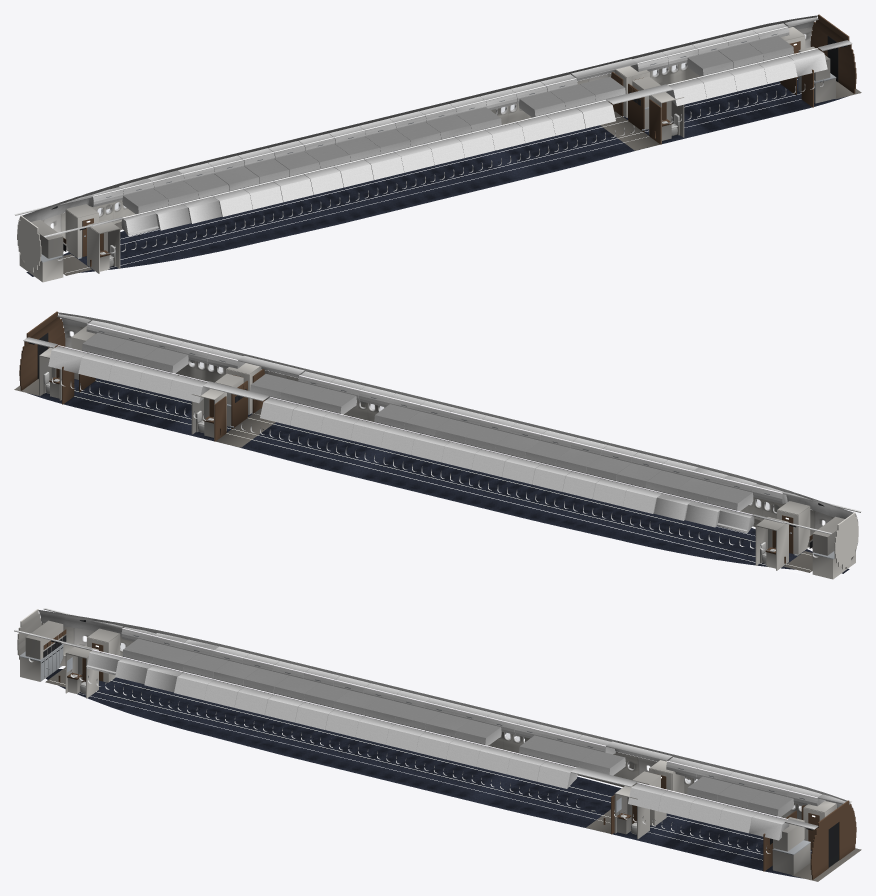
Rendered from b767-300er-cabin.glb.
The picture shows the model from 3 angles, top to bottom: view 1: azimuth 30°, elevation 25°; view 2: azimuth 150°, elevation 25°; view 3: azimuth 330°, elevation 25°; orthographic projection.
Parts seen in each view (by area): view 1: Cabin_Overhead, Cabin_Floor, Cabin_Monuments, Cabin_Lining, Cabin_Reveals; view 2: Cabin_Overhead, Cabin_Floor, Cabin_Monuments, Cabin_Lining, Cabin_Reveals; view 3: Cabin_Overhead, Cabin_Floor, Cabin_Monuments, Cabin_Lining, Cabin_Reveals.
Part boxes in pixels (x1,y1,x2,y2): Cabin_Overhead: (14, 15, 852, 237); Cabin_Floor: (26, 78, 861, 277); Cabin_Monuments: (17, 14, 856, 282); Cabin_Lining: (18, 15, 817, 271); Cabin_Reveals: (57, 62, 823, 260); Cabin_Overhead: (23, 314, 861, 534); Cabin_Floor: (14, 378, 849, 574); Cabin_Monuments: (19, 311, 858, 579); Cabin_Lining: (58, 312, 857, 568); Cabin_Reveals: (52, 359, 818, 557); Cabin_Overhead: (14, 608, 851, 840); Cabin_Floor: (44, 667, 861, 881); Cabin_Monuments: (17, 609, 856, 879); Cabin_Lining: (38, 610, 855, 821); Cabin_Reveals: (28, 643, 802, 853).
Size of the model in its own units: 43.43 by 2.7 by 4.99.
21 materials, 7 textured.
